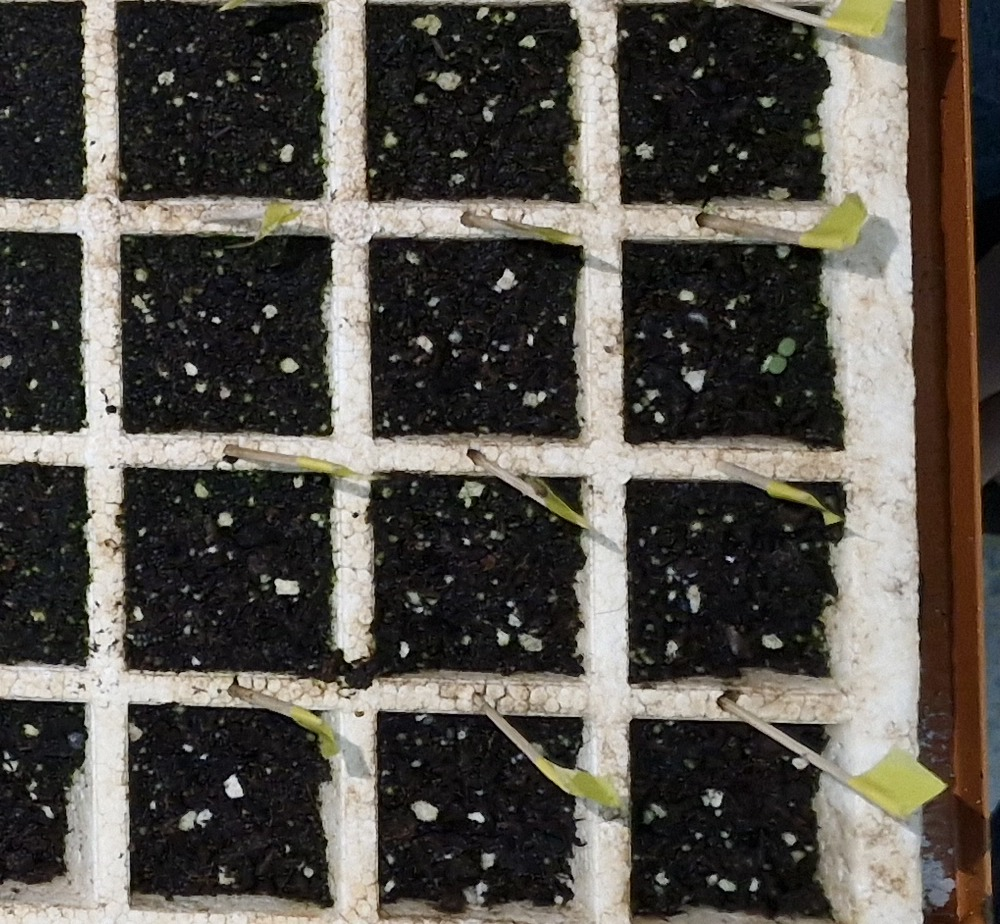Folha: (768, 356, 786, 374), (778, 338, 795, 356)
Germinacao: (768, 337, 796, 374)
